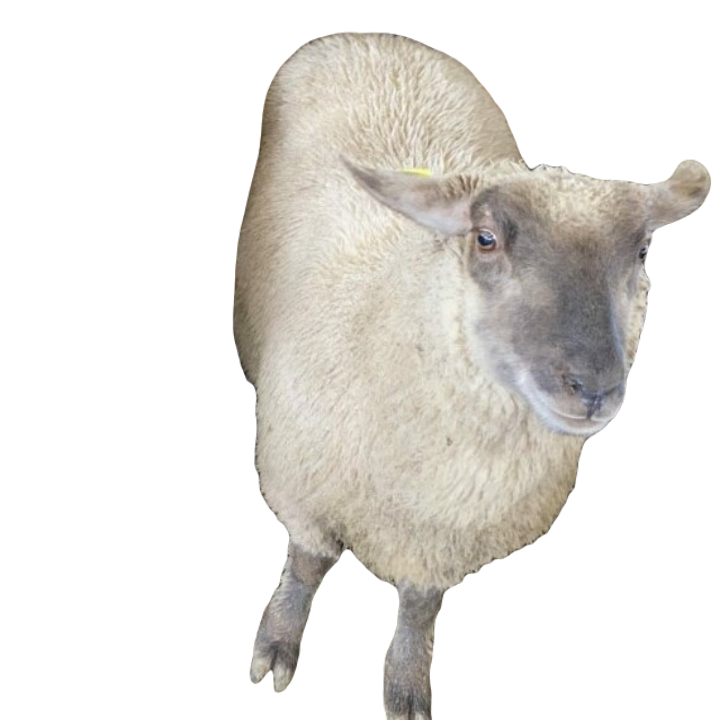Sheep: (221, 29, 711, 719)
